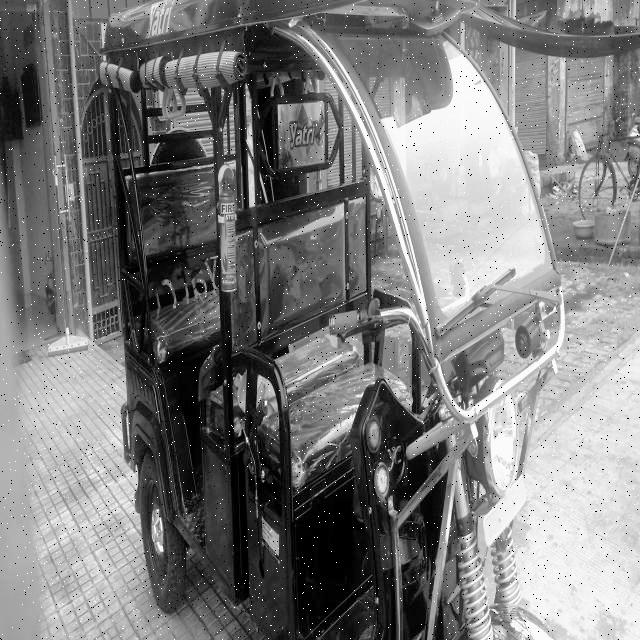Toto: (102, 0, 569, 640)
